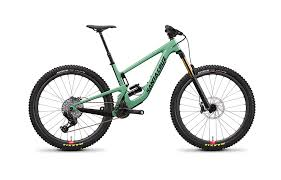bicycle: (16, 14, 263, 161)
